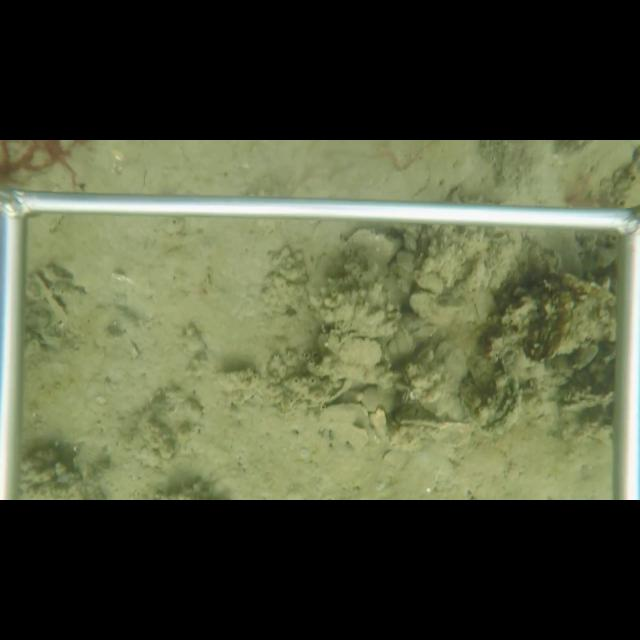Oyster-Open: (330, 329, 386, 368)
